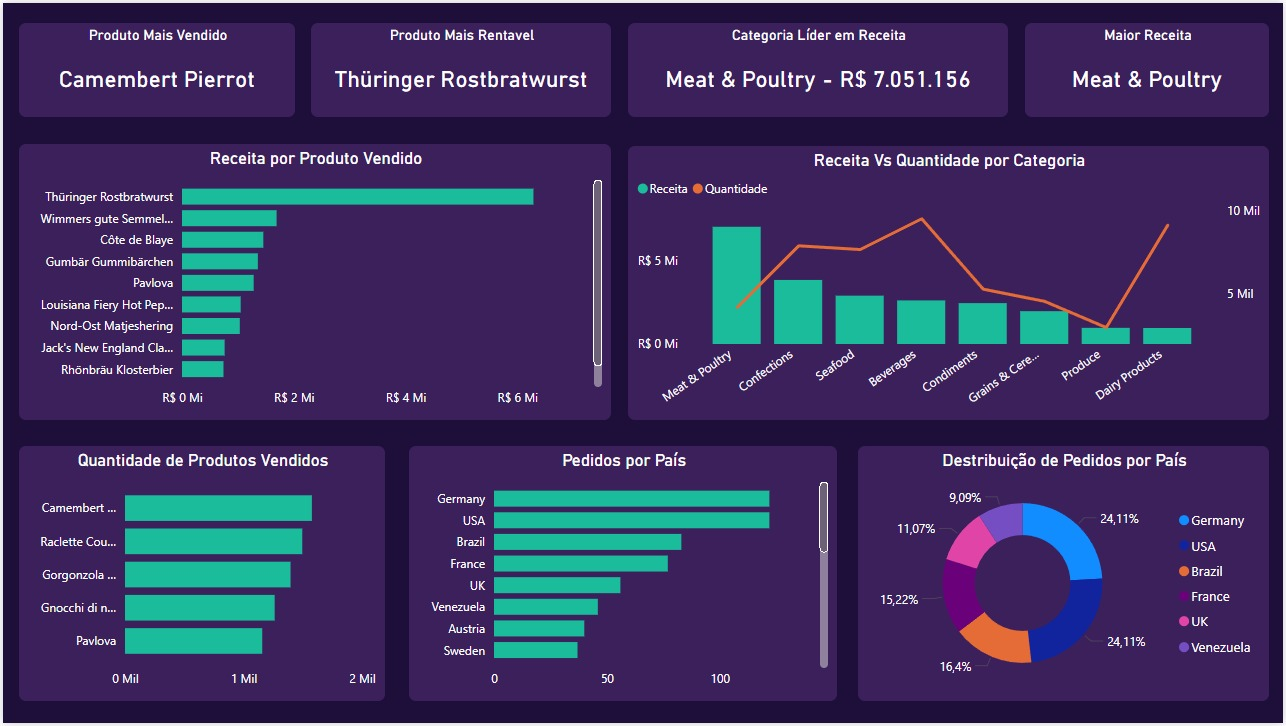

This screenshot's page, from the dashboard's own definition file:
{"tool":"powerbi","page":{"name":"Página 2","canvas":[1280,720],"ordinal":1},"visuals":[{"type":"barChart","title":"Receita por Produto Vendido","fields":{"Category":["products.productName"],"Y":["order_details.Receita"]},"box":[16,141,592,276],"z":0},{"type":"barChart","title":"Quantidade de Produtos Vendidos","fields":{"Category":["products.productName"],"Y":["order_details.Quantidade"]},"box":[16,443,366,255],"z":1000},{"type":"barChart","title":"Pedidos por País","fields":{"Category":["customers.country"],"Y":["orders.Pedidos"]},"box":[406,443,428,255],"z":2000},{"type":"lineStackedColumnComboChart","title":"Receita Vs Quantidade por Categoria","fields":{"Category":["categories.categoryName"],"Y":["order_details.Receita"],"Y2":["order_details.Quantidade"]},"box":[625,143,641,274],"z":3000},{"type":"card","title":"Produto Mais Vendido","fields":{"Values":["products.Produto Mais Vendido"]},"box":[16.4,19.8,276,94],"z":4000},{"type":"card","title":"Maior Receita","fields":{"Values":["categories.Categoria Top Receita"]},"box":[1022,20,244,94],"z":5000},{"type":"card","title":"Categoria Líder em Receita","fields":{"Values":["categories.Top Categoria Receita (Texto)"]},"box":[625,20,380,94],"z":6000},{"type":"card","title":"Produto Mais Rentavel","fields":{"Values":["categories.Produto Mais Rentavel"]},"box":[308,20,300,94],"z":7000},{"type":"donutChart","title":"Destribuição de Pedidos por País","fields":{"Category":["customers.country"],"Y":["orders.Pedidos"]},"box":[855,443,411,255],"z":8000}]}

Visuals, with their boxes in screenshot pixels (x1, y1, x2, y2), scaled from the page's 1280x720 canvas onto the 1286x726 screenshot:
"Receita por Produto Vendido" barChart: locate(16, 142, 611, 420)
"Quantidade de Produtos Vendidos" barChart: locate(16, 447, 384, 704)
"Pedidos por País" barChart: locate(408, 447, 838, 704)
"Receita Vs Quantidade por Categoria" lineStackedColumnComboChart: locate(628, 144, 1272, 420)
"Produto Mais Vendido" card: locate(16, 20, 294, 115)
"Maior Receita" card: locate(1027, 20, 1272, 115)
"Categoria Líder em Receita" card: locate(628, 20, 1010, 115)
"Produto Mais Rentavel" card: locate(309, 20, 611, 115)
"Destribuição de Pedidos por País" donutChart: locate(859, 447, 1272, 704)
